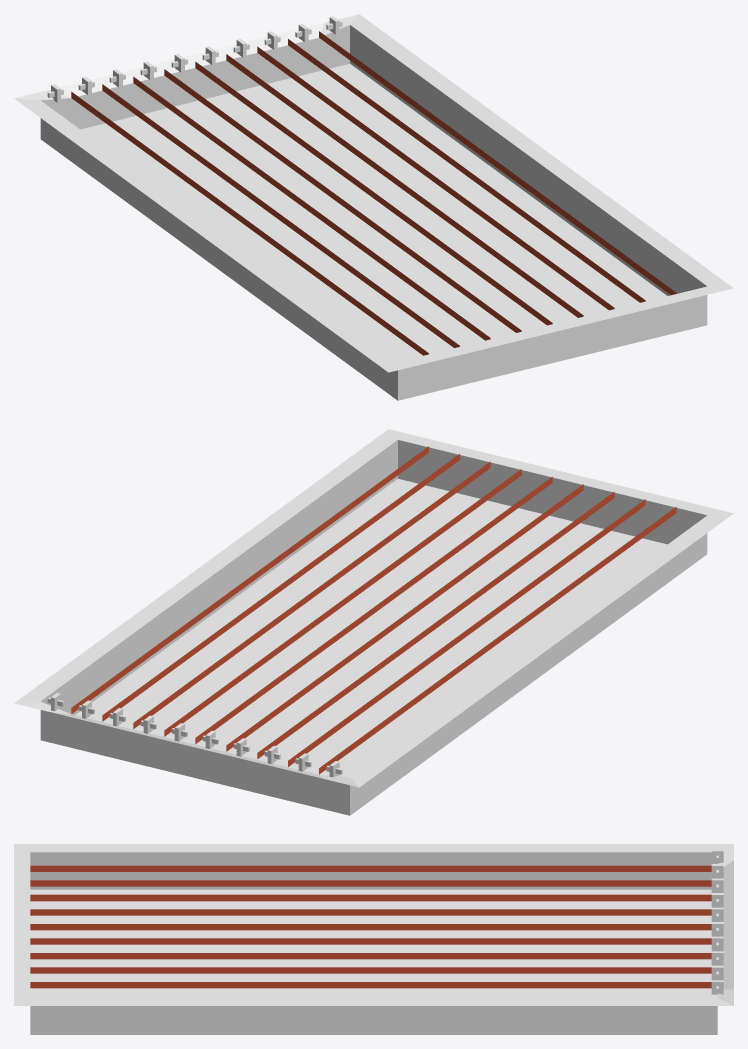
The model's file is pool.glb.
3 renders of one model, top to bottom at view 1: azimuth 30°, elevation 25°; view 2: azimuth 150°, elevation 25°; view 3: azimuth 270°, elevation 25°, orthographic. The views are drawn at different scales.
Visible parts, largest first — view 1: Plane; view 2: Plane; view 3: Plane.
Part boxes in pixels (x1,y1,x2,y2): Plane: [14, 14, 733, 400]; Plane: [14, 429, 733, 815]; Plane: [14, 844, 733, 1034].
Size of the model in its own units: 27.9 by 3.74 by 52.39.
1 material, 1 textured.
